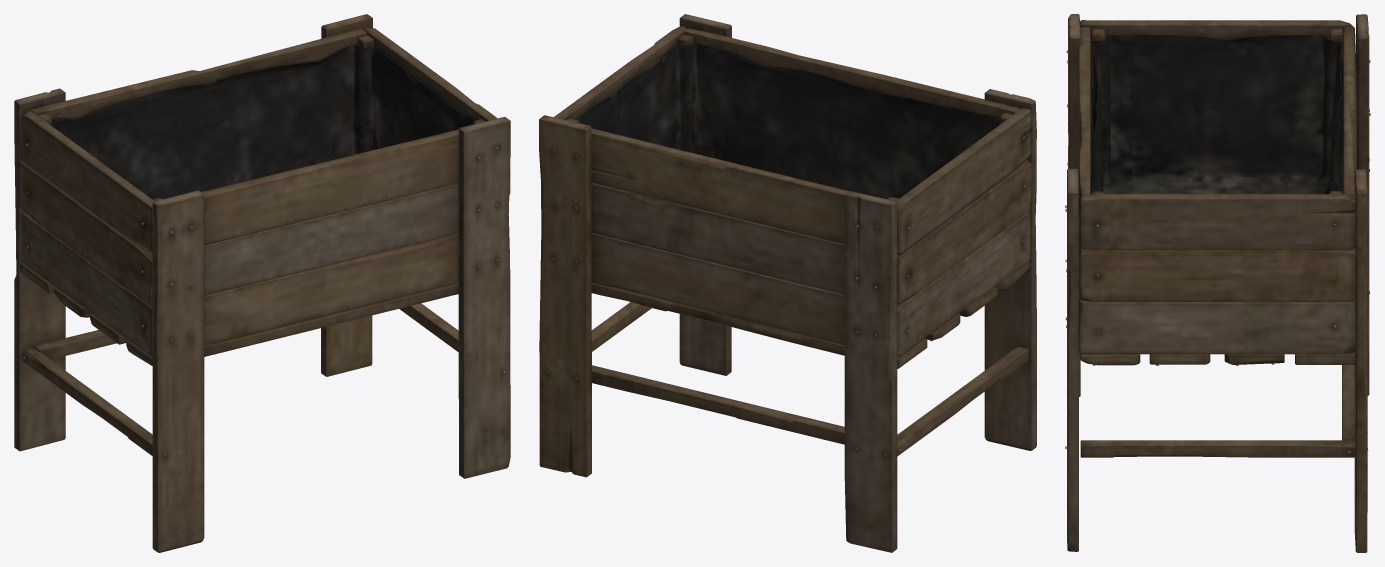
The model's file is planter_box_03.gltf.
The picture shows the model from 3 angles, left to right: view 1: azimuth 30°, elevation 25°; view 2: azimuth 150°, elevation 25°; view 3: azimuth 270°, elevation 25°; orthographic projection. The views are drawn at different scales.
Parts seen in each view (by area): view 1: planter_box_03; view 2: planter_box_03; view 3: planter_box_03.
Part boxes in pixels (left/top/right/bottom): planter_box_03: left=14, top=14, right=510, bottom=552; planter_box_03: left=539, top=14, right=1036, bottom=552; planter_box_03: left=1065, top=14, right=1370, bottom=552.
Size of the model in its own units: 0.9143 by 0.8551 by 0.6555.
1 material, 1 textured.
